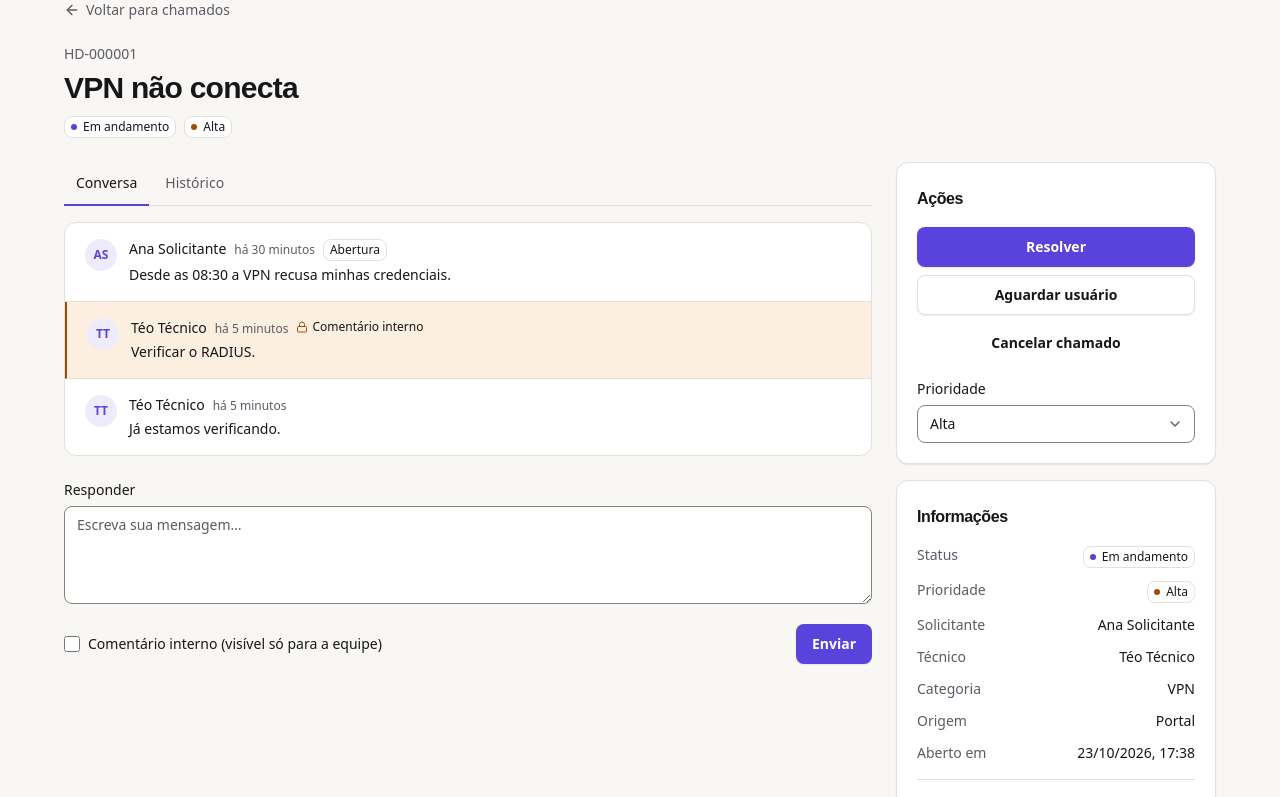
TicketDetailsPage › exige a solução ao resolver e envia pelo endpoint de resolução
Click the button "Resolver".
click(1056, 247)  # box [917,227,1195,267]
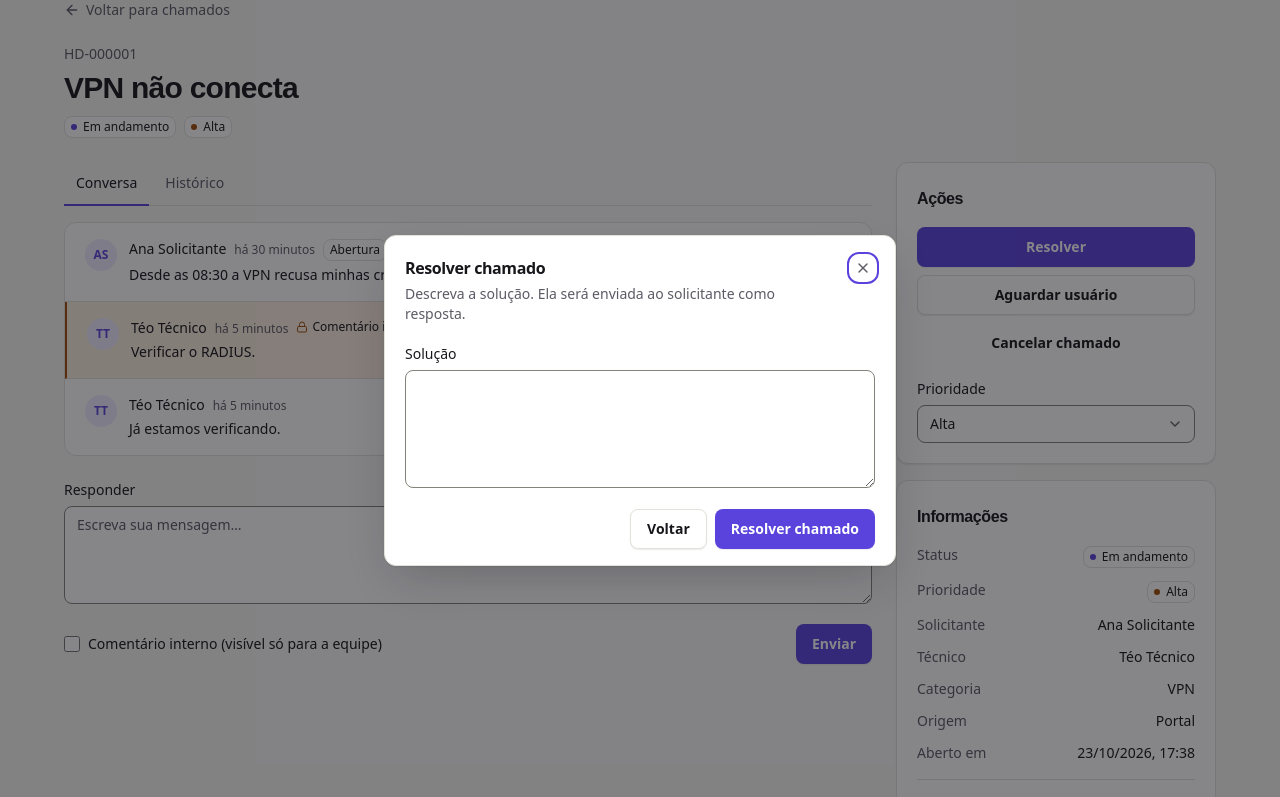
Click the button "Resolver chamado".
click(795, 528)  # box [715,508,875,548]
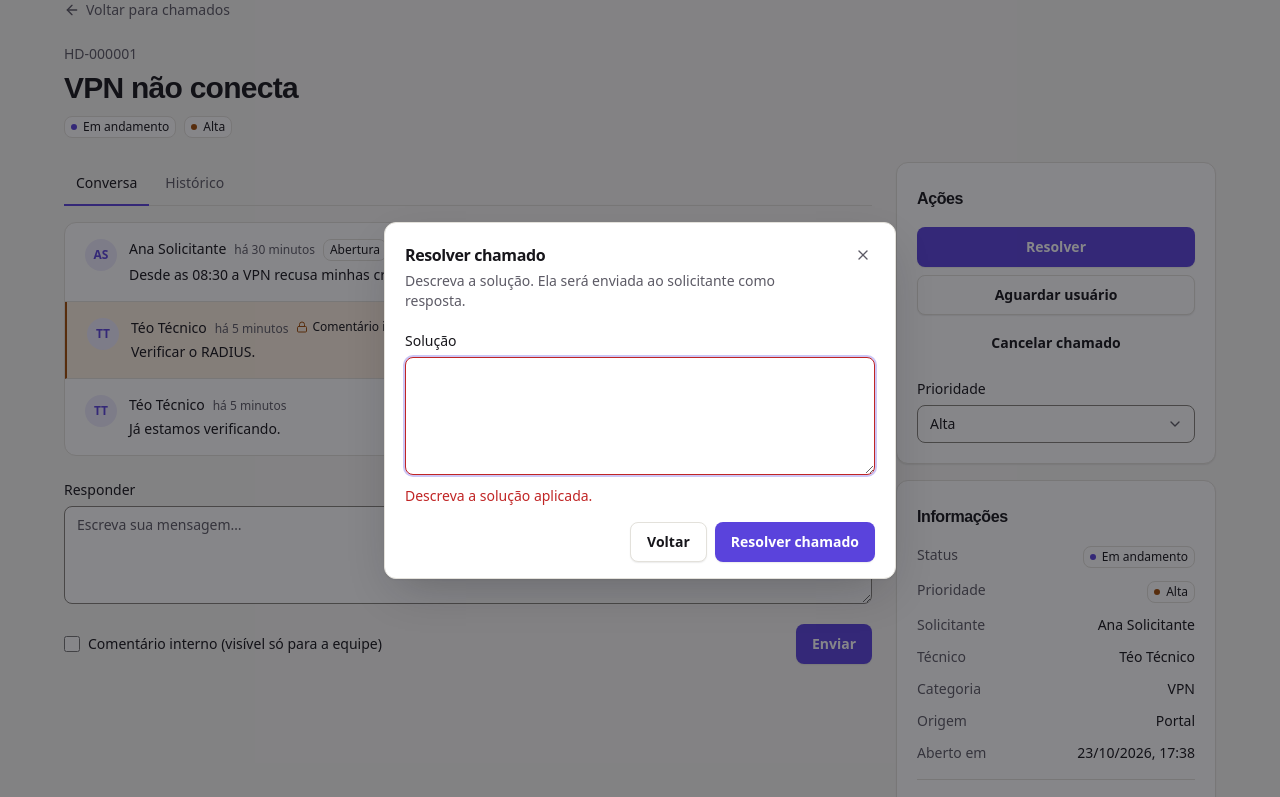
Result: the text "Descreva a solução aplicada." is shown at [405,486,592,504]
Type "Credenciais renovadas." into the text box labelled "Solução".
click(640, 416); type("Credenciais renovadas.")  # box [405,356,875,474]
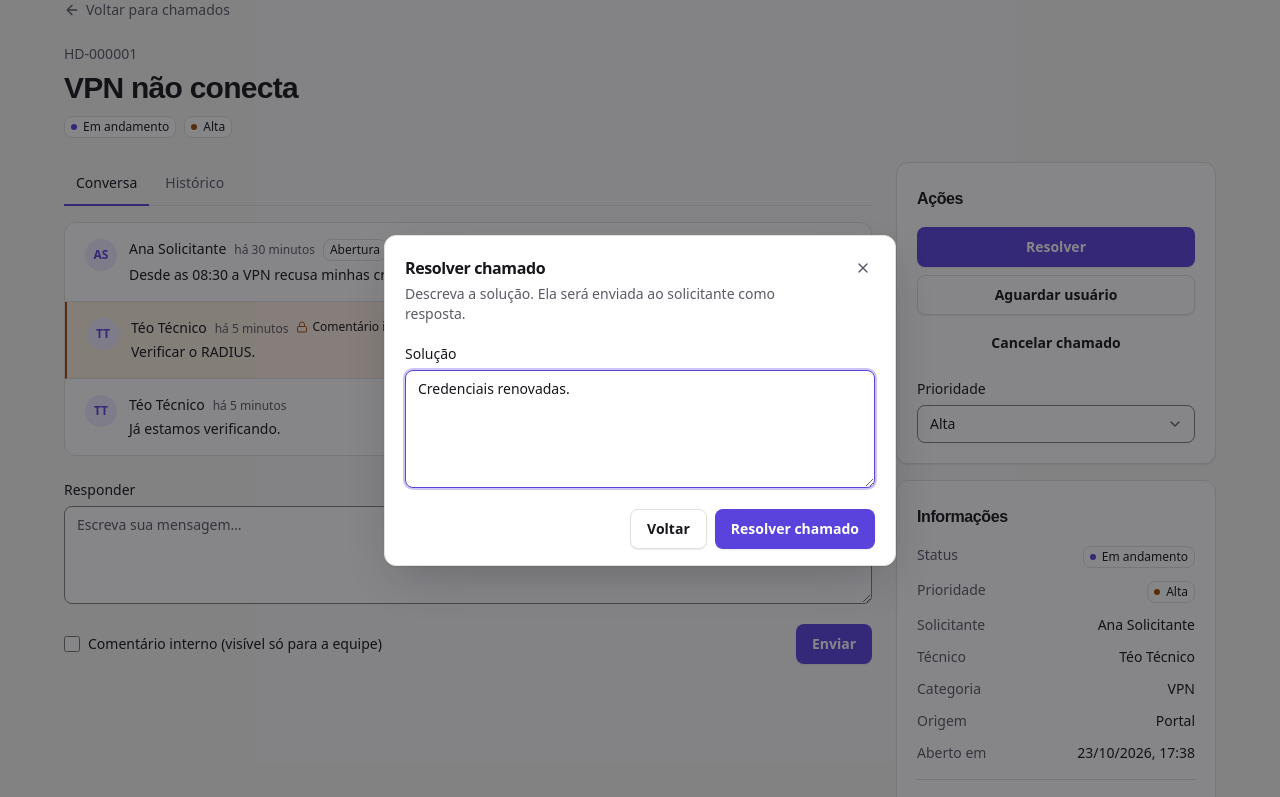
Click the button "Resolver chamado".
click(795, 528)  # box [715,508,875,548]
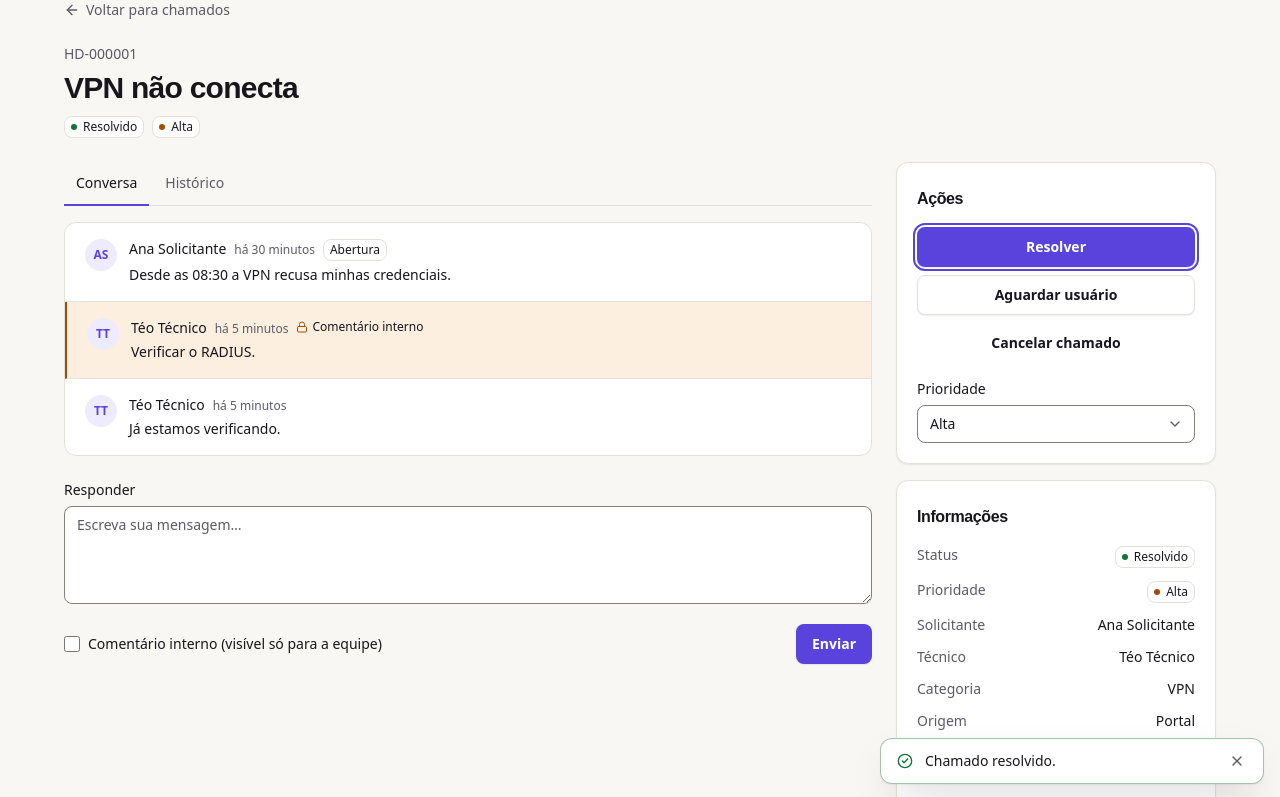
Result: the text "Chamado resolvido." is shown at [925,751,1056,770]
Result: the dialog is gone
